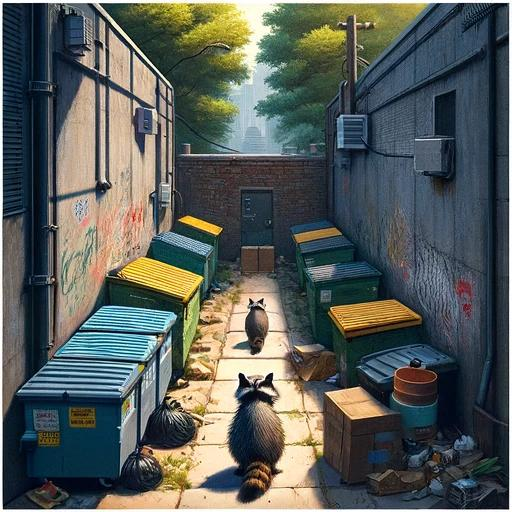raccoon: (222, 367, 289, 509), (237, 290, 275, 358)
